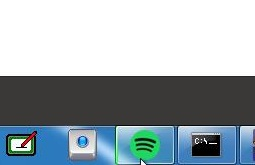cursor: (139, 157, 147, 165)
